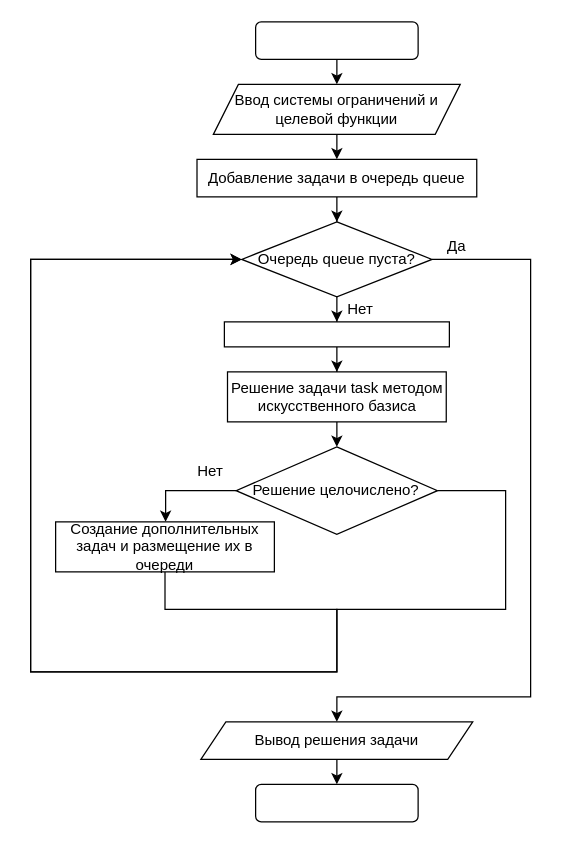
Some shapes in this 563 by 844 pixel diagram are drawn without their labels. The centre of each missing label's shape, as x and y in pixels:
"task = queue.top()" belongs at pixel 336 334.
"Конец" belongs at pixel 336 802.
"Начало" belongs at pixel 336 40.
